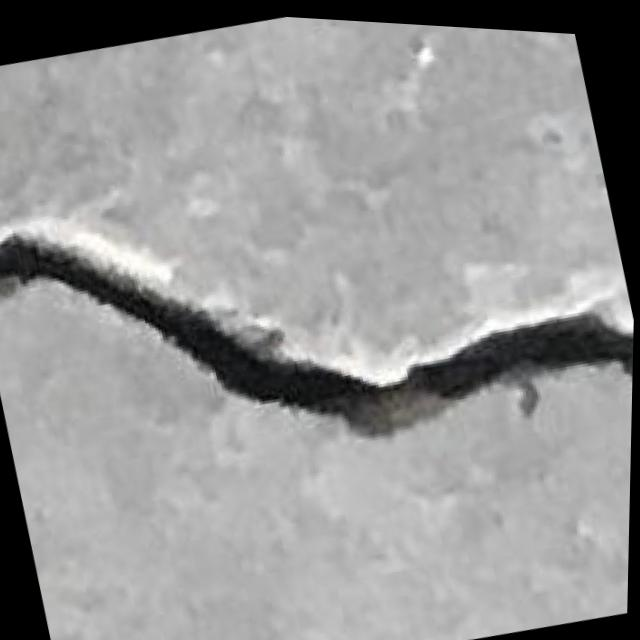Crack: (0, 108, 638, 567)
